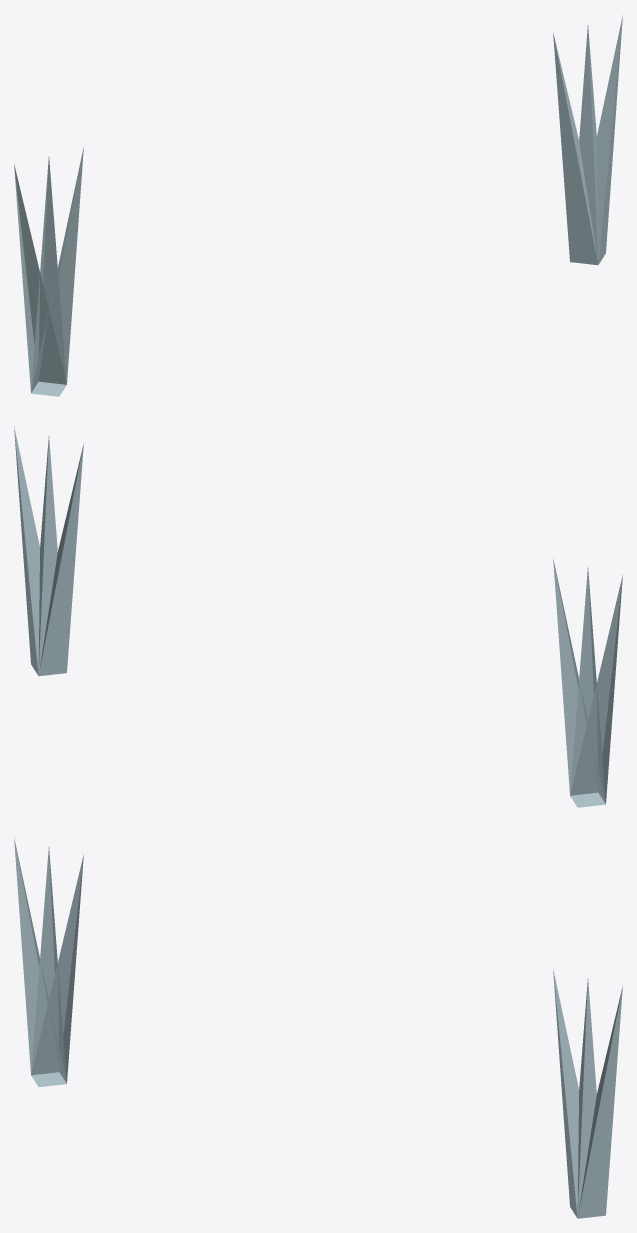
Rendered from ermine_frost.glb.
3 views of the same model, one above another, from view 1: azimuth 30°, elevation 25°; view 2: azimuth 150°, elevation 25°; view 3: azimuth 330°, elevation 25° (orthographic).
Visible parts, largest first — view 1: ermine_frost; view 2: ermine_frost; view 3: ermine_frost.
Part boxes in pixels (x1,y1,x2,y2): ermine_frost: (14,15,622,396); ermine_frost: (14,426,622,807); ermine_frost: (14,837,622,1218).
Bounding box in the file's own units: 0.1356 × 0.05 × 0.008.
